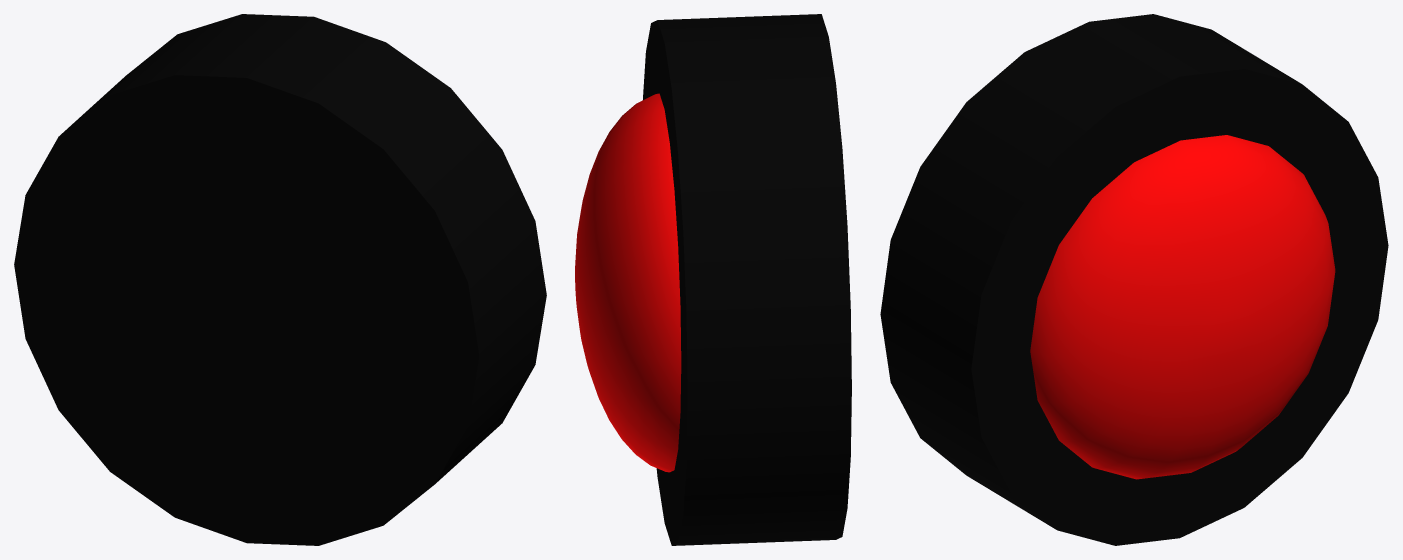
File: Button.fbx
3 views of the same model, side by side, from view 1: azimuth 30°, elevation 25°; view 2: azimuth 150°, elevation 25°; view 3: azimuth 270°, elevation 25° (orthographic). The views are drawn at different scales.
Parts seen in each view (by area): view 1: pSphere13; view 2: pSphere13; view 3: pSphere13.
Boxes of the visible parts, <box> form: pSphere13: <box>14,14,546,545</box>; pSphere13: <box>575,14,851,545</box>; pSphere13: <box>880,14,1388,545</box>.
Bounding box in the file's own units: 0.557 × 0.6724 × 0.6707.
